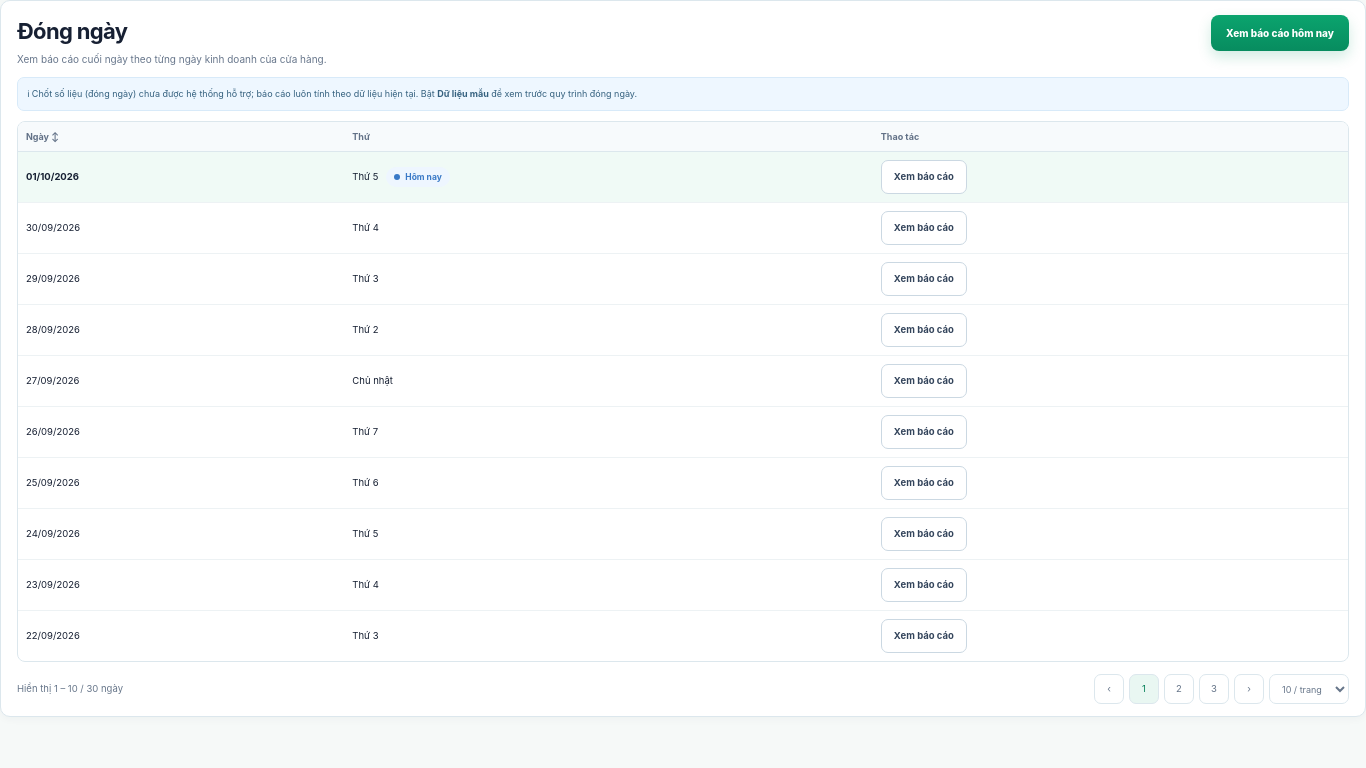
Test: DayCloseView with live data › lists Store-local business dates and offers no close action
Expected: the row "01/10/2026 Thứ 5 Hôm nay Xem báo cáo" is shown, left=18, top=152, right=1348, bottom=202
Expected: the row "30/09/2026 Thứ 4 Xem báo cáo" is shown, left=18, top=202, right=1348, bottom=254
Step 1. Click the button "2" → coordinates (1179, 689), box left=1164, top=674, right=1194, bottom=704
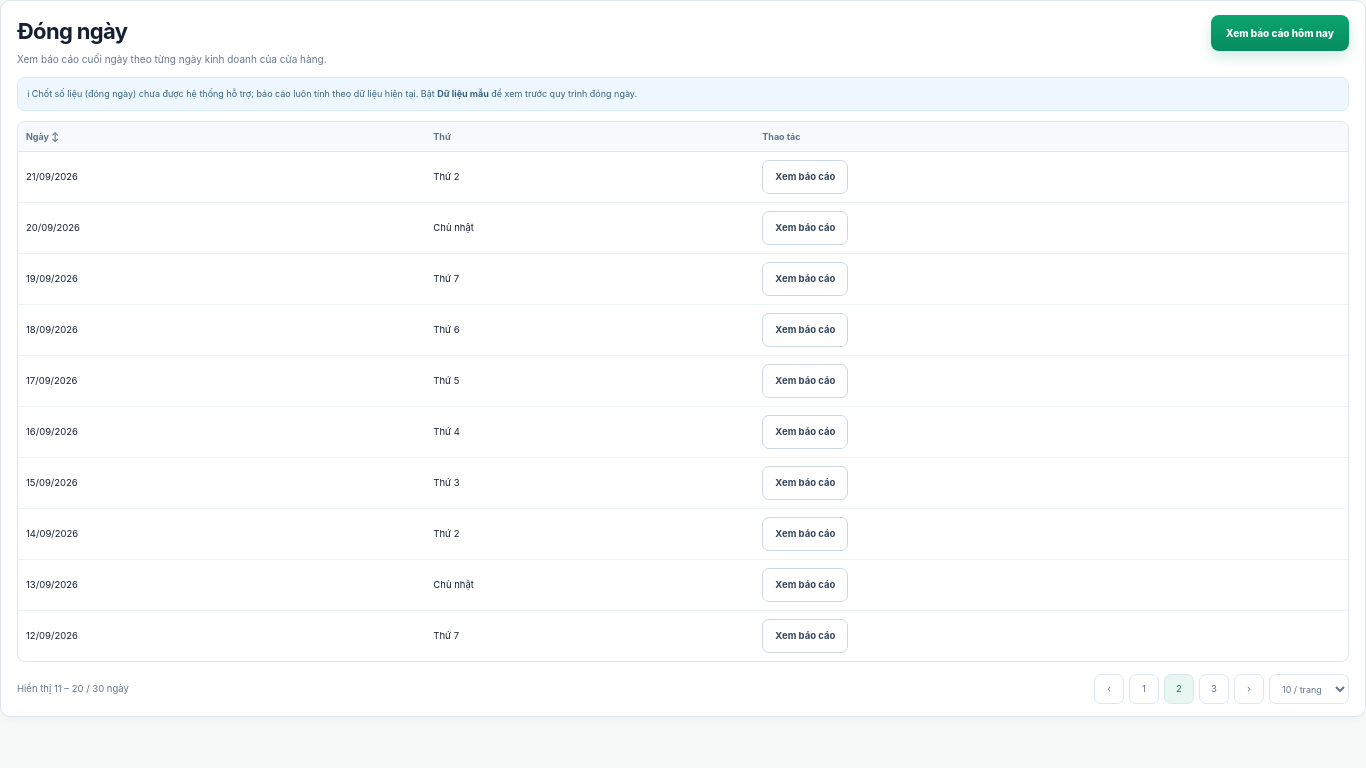
Now the row "21/09/2026 Thứ 2 Xem báo cáo" is shown, box left=18, top=152, right=1348, bottom=202
